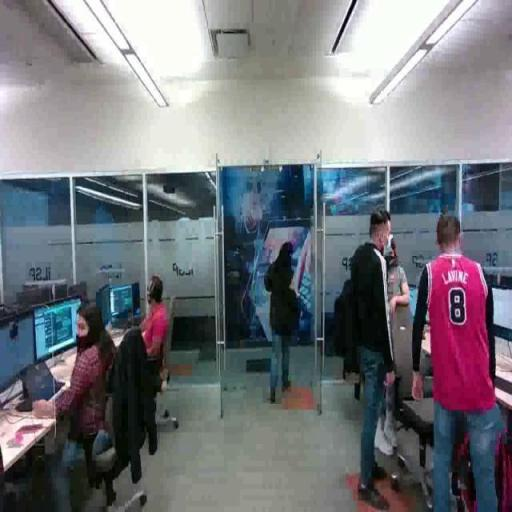person: (39, 302, 121, 512), (263, 240, 301, 403)
